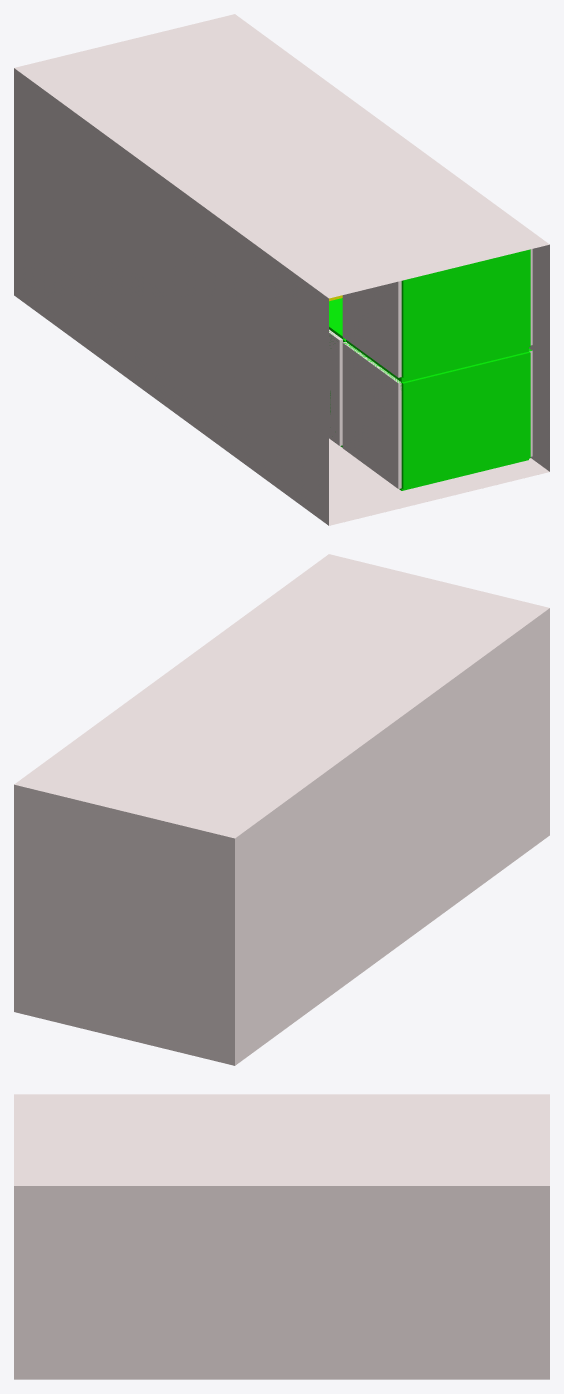
3 views of the same model, one above another, from view 1: azimuth 30°, elevation 25°; view 2: azimuth 150°, elevation 25°; view 3: azimuth 270°, elevation 25° (orthographic). The views are drawn at different scales.
Parts seen in each view (by area): view 1: BinIso20Bottom, bintop, binleft, front_3, front_4, binbottom; view 2: BinIso20Bottom, bintop, binback; view 3: BinIso20Bottom, binright, bintop.
Boxes of the visible parts, left/top/right/bottom form: BinIso20Bottom: left=14, top=74, right=549, bottom=525; bintop: left=14, top=14, right=549, bottom=298; binleft: left=14, top=68, right=324, bottom=515; front_3: left=401, top=351, right=530, bottom=489; front_4: left=401, top=249, right=530, bottom=377; binbottom: left=329, top=438, right=549, bottom=525; BinIso20Bottom: left=235, top=608, right=549, bottom=1065; bintop: left=14, top=554, right=549, bottom=838; binback: left=14, top=784, right=234, bottom=1065; BinIso20Bottom: left=14, top=1186, right=549, bottom=1379; binright: left=14, top=1192, right=549, bottom=1379; bintop: left=14, top=1094, right=549, bottom=1185.
Size of the model in its own units: 2390 by 2350 by 5900.
